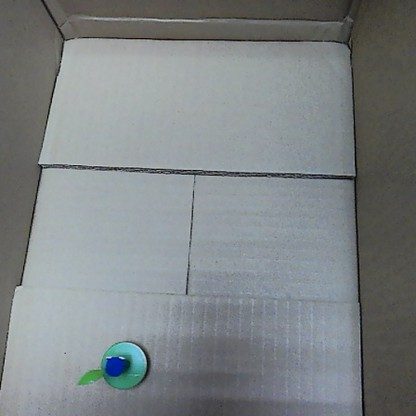leafairy: (76, 340, 148, 392)
